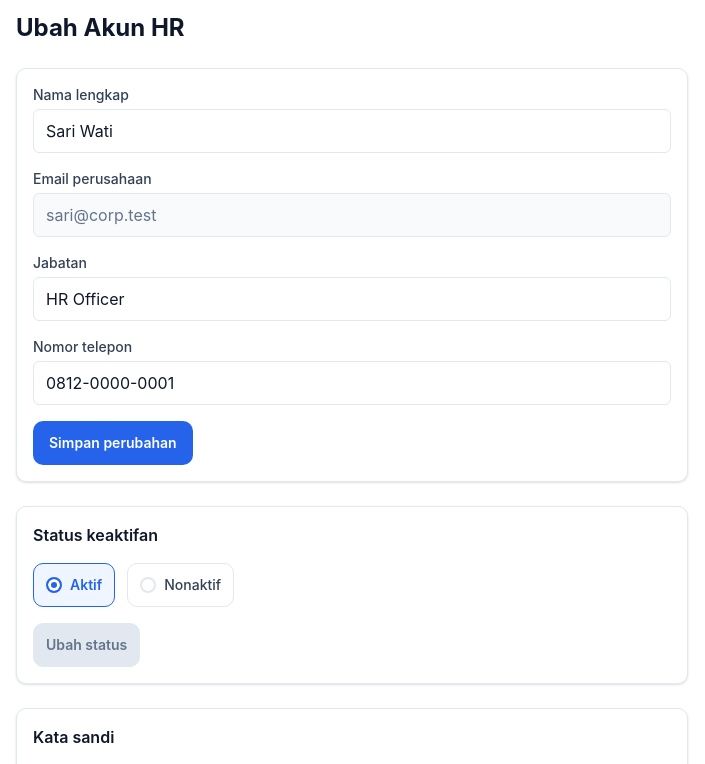
Scenario: HrEditPage › states that an untouched form has nothing to send
The width and height of the screenshot is (705, 764).
expect the field labelled "Nama lengkap" is shown: met, box [33,109,671,153]
Click the button with test id "hr-edit-save" at (113, 443), box [33,421,193,465]
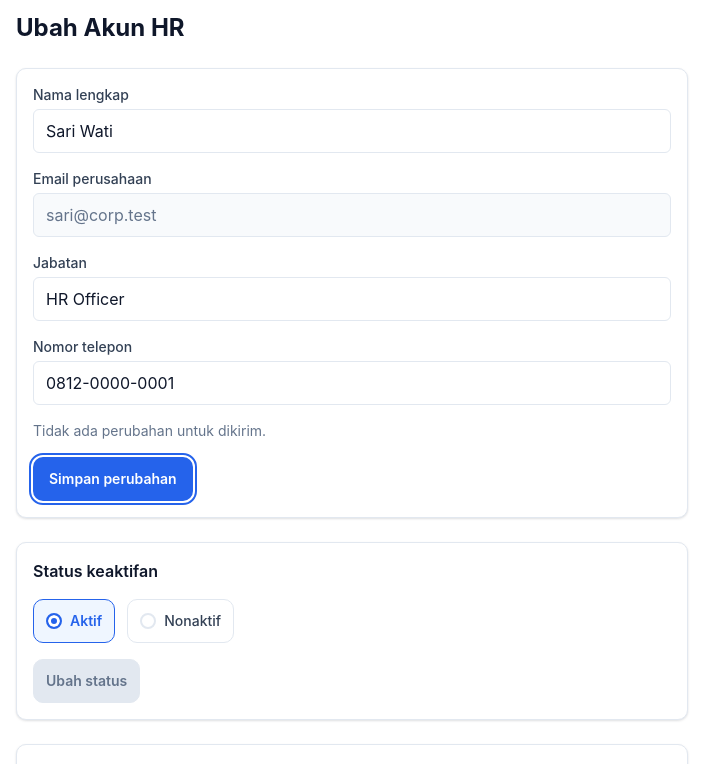
expect the message with test id "hr-edit-no-changes" reads "Tidak ada perubahan untuk dikirim.": met, box [33,422,266,439]
